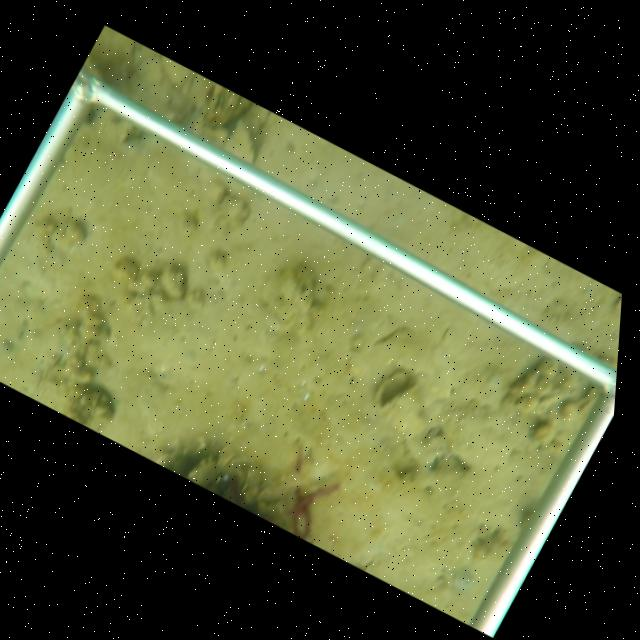Oyster-Indeterminate: (219, 118, 261, 167)
Oyster-Open: (372, 366, 421, 412)
